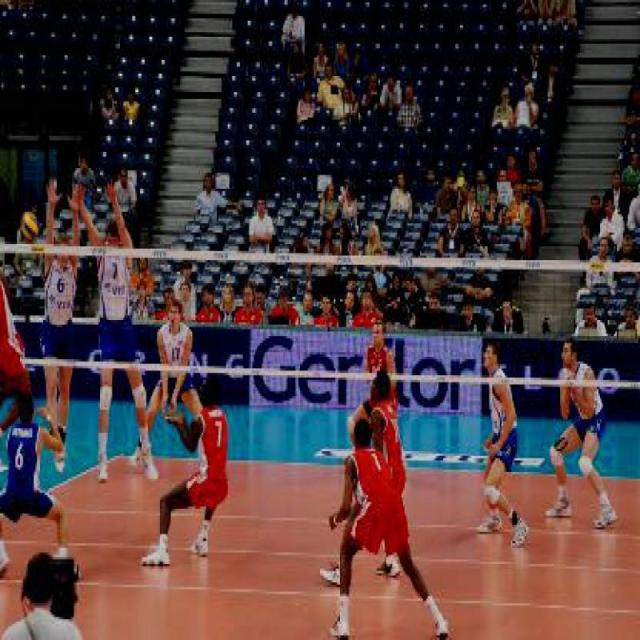volleyball: (20, 209, 38, 240)
